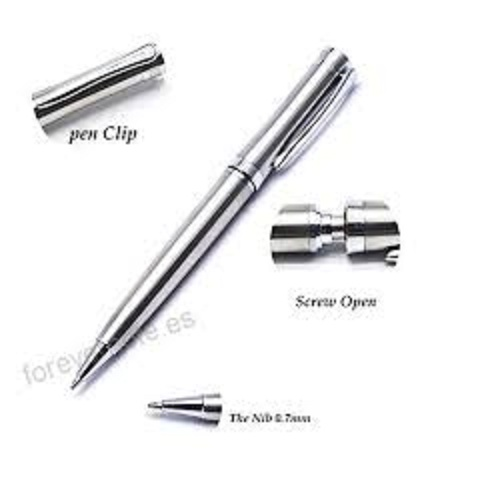Boligrafo: (69, 47, 355, 392)
